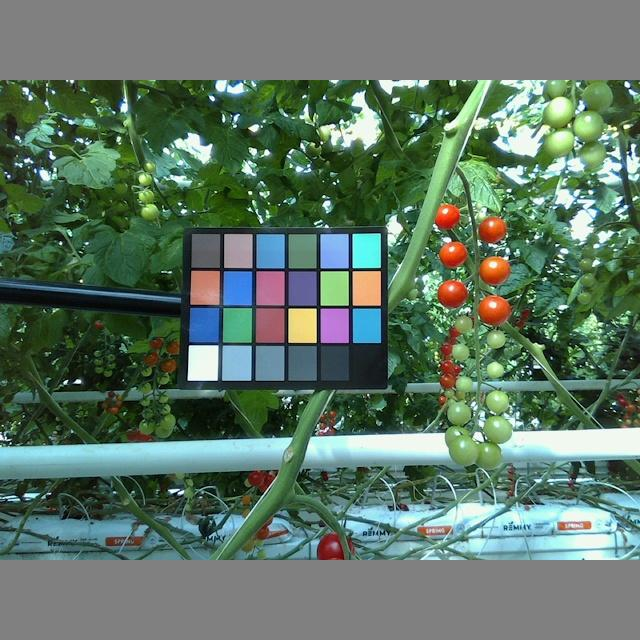green: (449, 433, 480, 468), (542, 96, 575, 128), (473, 441, 506, 473), (573, 109, 604, 142), (542, 127, 575, 157), (581, 84, 615, 112), (579, 137, 608, 169), (482, 415, 513, 444), (485, 387, 511, 414), (447, 401, 471, 427), (450, 343, 471, 365), (455, 374, 475, 395), (485, 361, 506, 381), (455, 313, 473, 334), (486, 330, 505, 349)
red: (315, 534, 359, 560), (477, 295, 511, 326), (478, 256, 511, 285), (436, 278, 466, 309), (433, 201, 462, 231), (478, 216, 508, 244), (439, 240, 468, 268)
